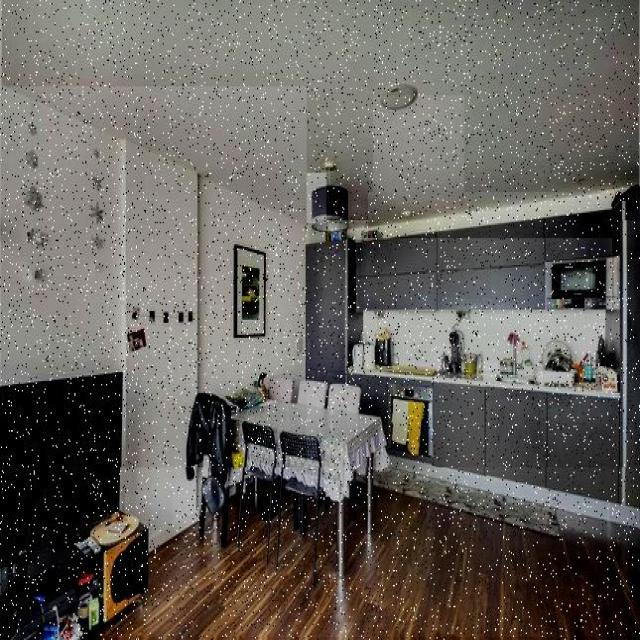Wall: (0, 87, 307, 548), (2, 1, 639, 220), (91, 469, 639, 637), (123, 141, 198, 548), (199, 180, 305, 394), (369, 192, 615, 238), (373, 96, 464, 214), (459, 311, 606, 377), (364, 311, 457, 368), (220, 188, 297, 249), (277, 174, 326, 223), (348, 227, 364, 241), (248, 196, 272, 204)
